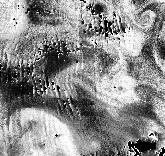CE: (132, 7, 157, 30)
